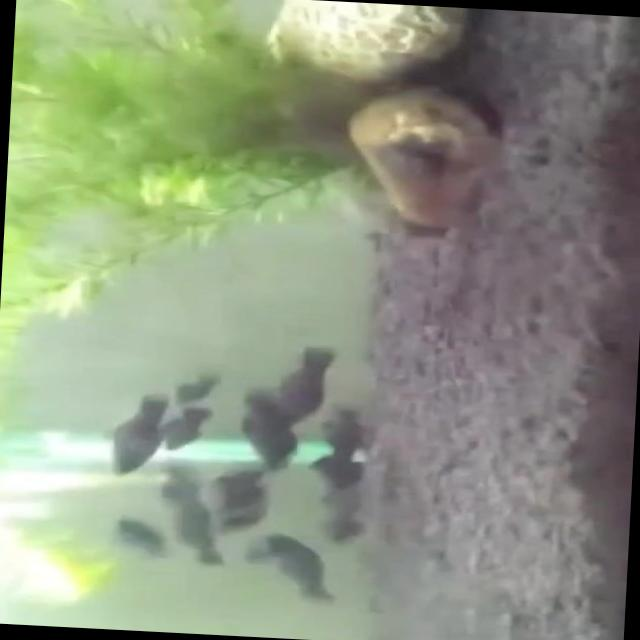PlatyFish: (101, 385, 178, 479)
